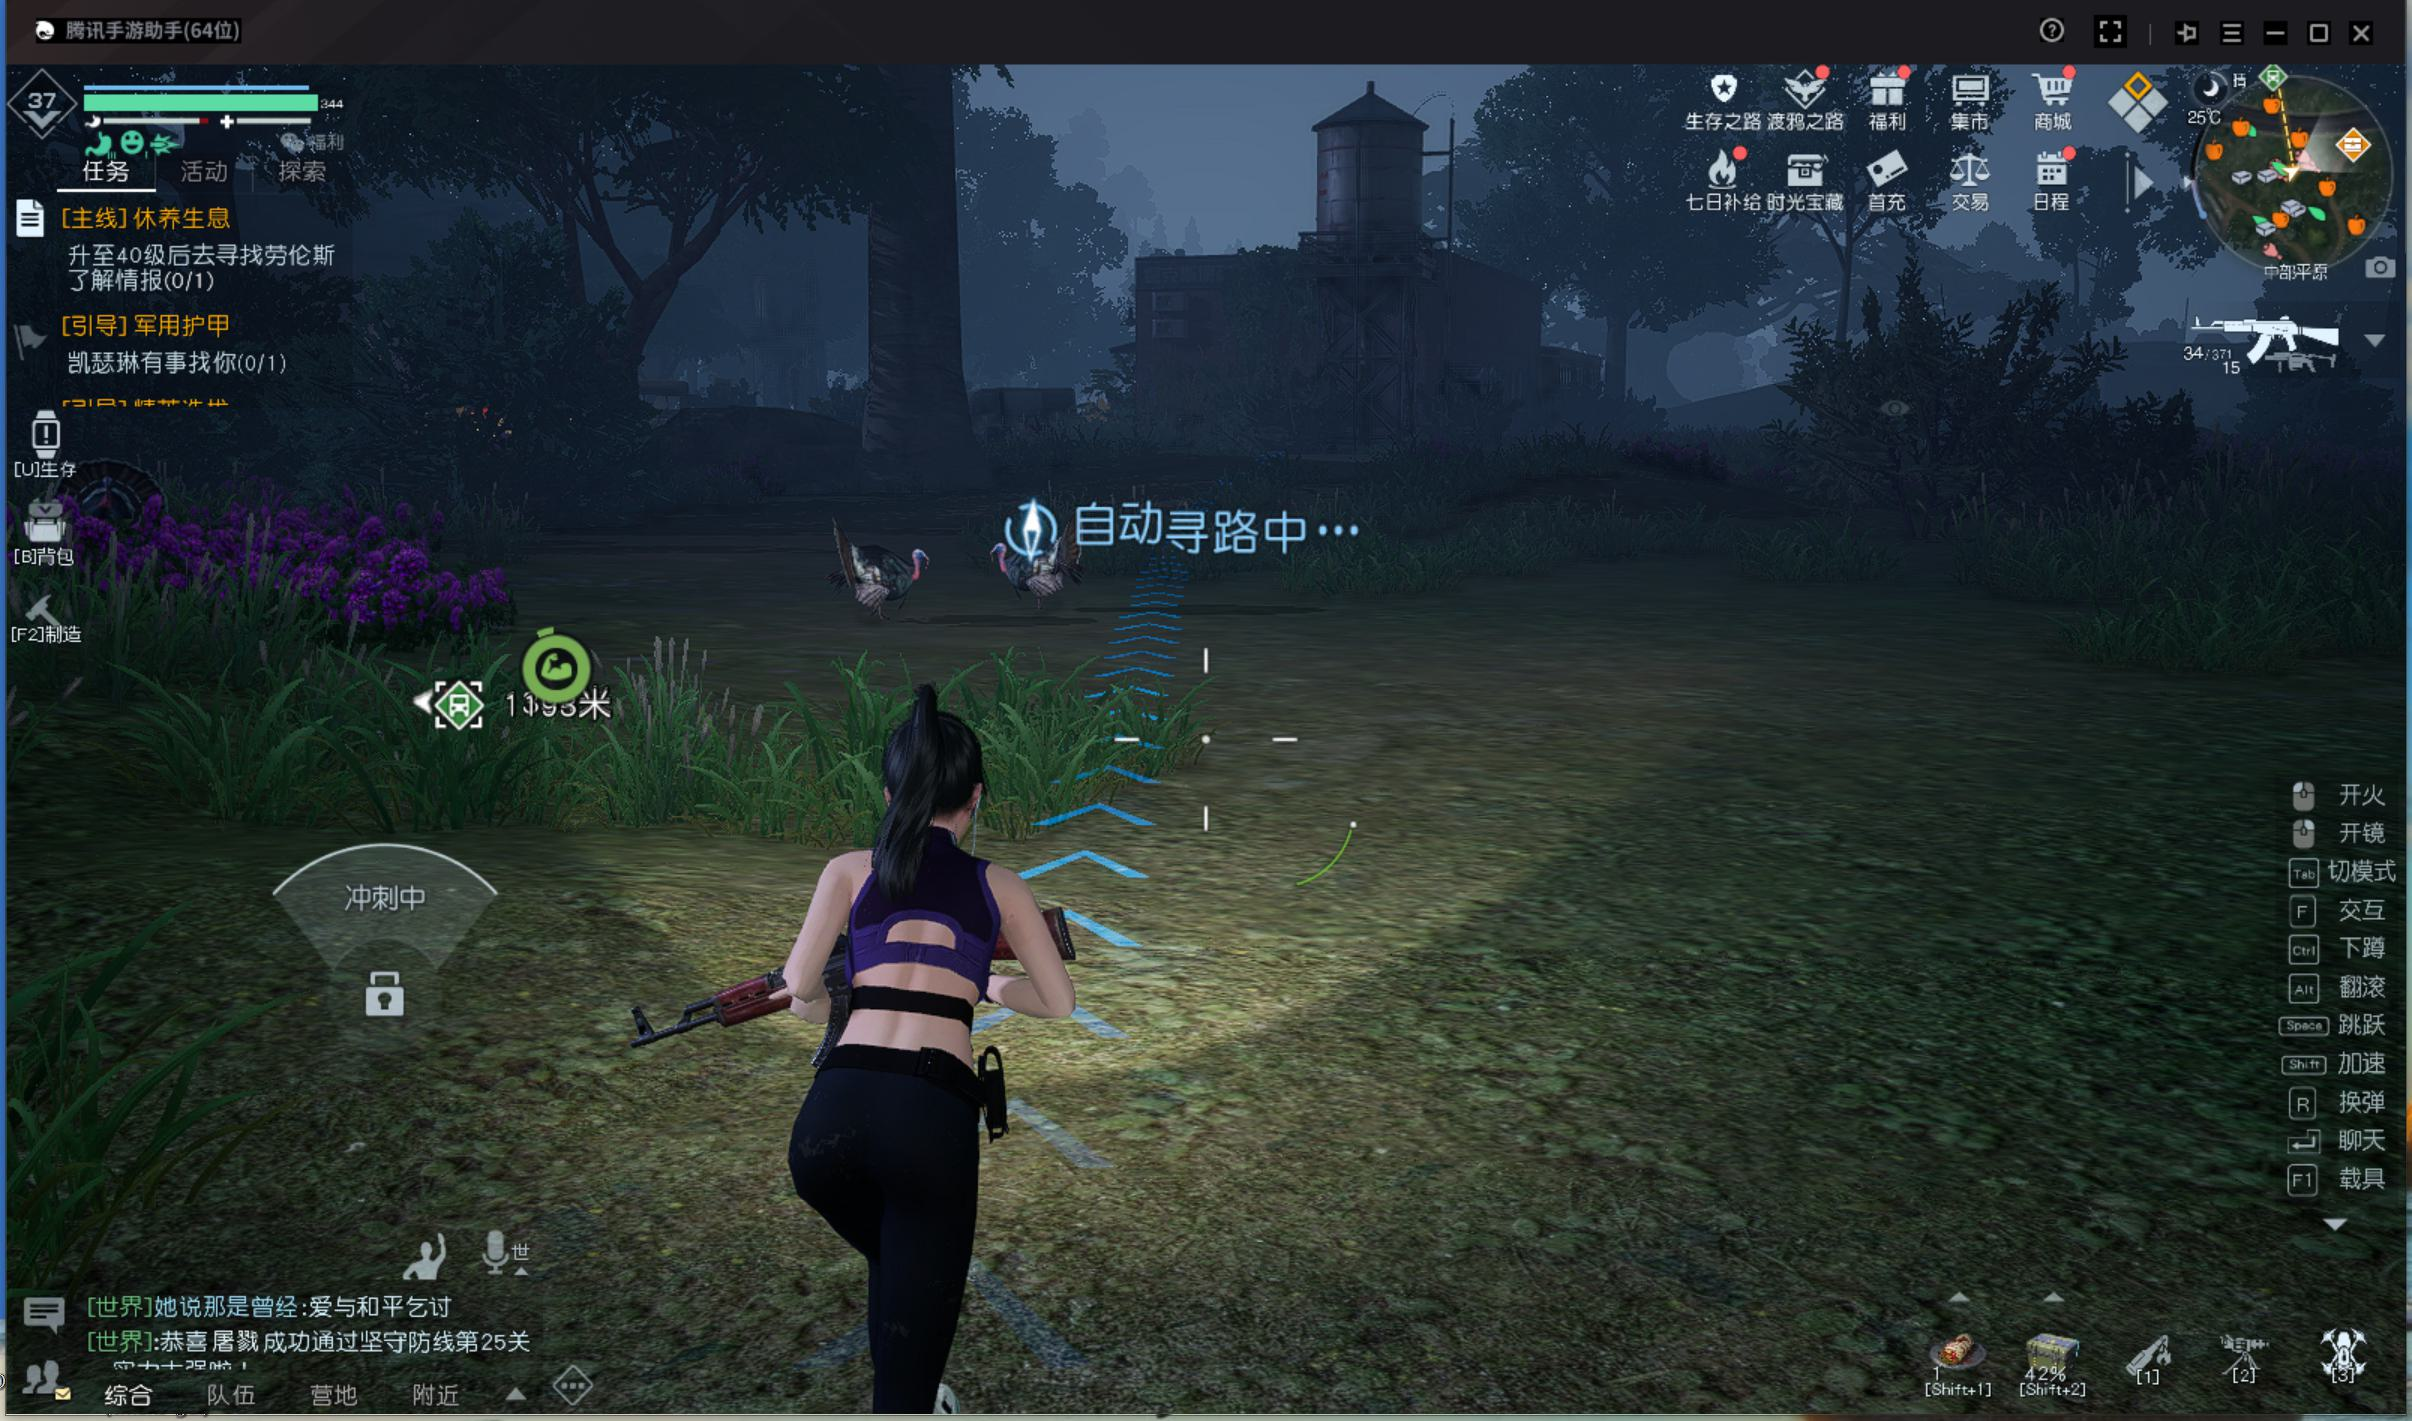tree: (849, 189, 983, 484), (1595, 311, 1636, 442)
